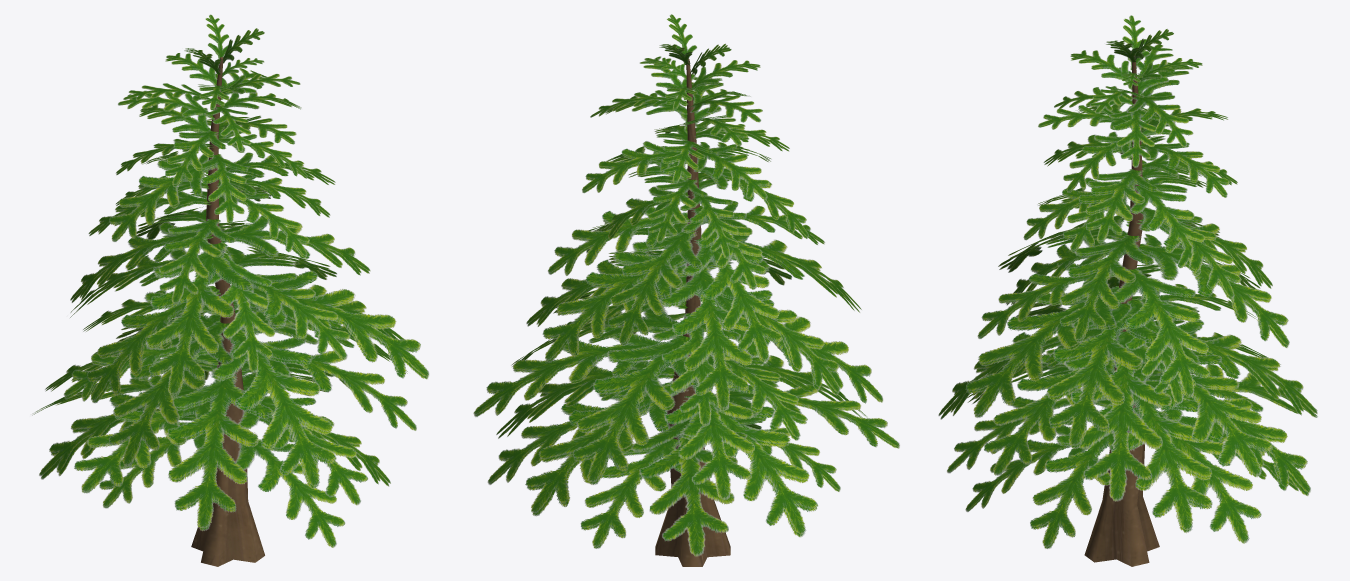
File: conifer-ktx.glb
3 views of the same model, side by side, from view 1: azimuth 30°, elevation 25°; view 2: azimuth 150°, elevation 25°; view 3: azimuth 270°, elevation 25° (orthographic).
Size of the model in its own units: 1.47 by 2 by 1.38.
Materials: 2 (2 with a texture image).
